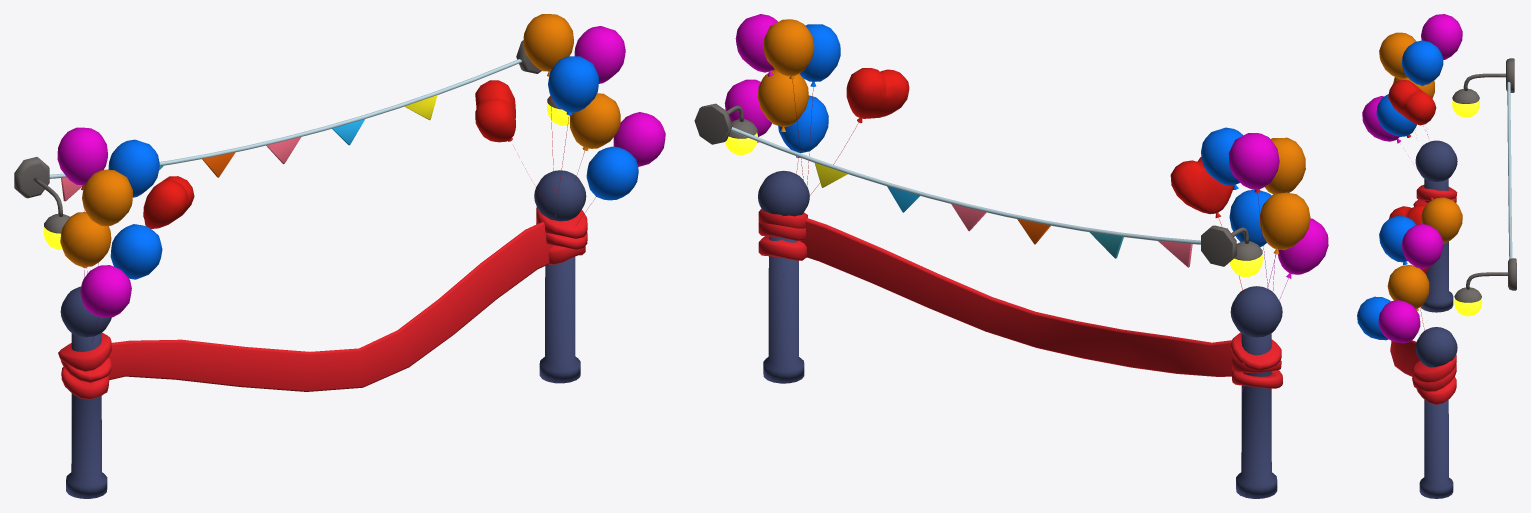
File: Entrance_Area_Decors.fbx
The picture shows the model from 3 angles, left to right: view 1: azimuth 30°, elevation 25°; view 2: azimuth 150°, elevation 25°; view 3: azimuth 270°, elevation 25°; orthographic projection. The views are drawn at different scales.
Visible parts, largest first — view 1: Entrance_Area_Decor, Entrance_Door_Baloon, Entrance_Area_Decor.001, Entrance_Area_Decor.002; view 2: Entrance_Area_Decor, Entrance_Door_Baloon, Entrance_Area_Decor.001, Entrance_Area_Decor.002; view 3: Entrance_Door_Baloon, Entrance_Area_Decor, Entrance_Area_Decor.002, Entrance_Area_Decor.001.
Part boxes in pixels (box(x1,y1,x2,y2)): Entrance_Area_Decor: box(58, 170, 587, 498); Entrance_Door_Baloon: box(57, 14, 665, 342); Entrance_Area_Decor.001: box(49, 59, 521, 201); Entrance_Area_Decor.002: box(14, 40, 569, 249); Entrance_Area_Decor: box(758, 170, 1282, 498); Entrance_Door_Baloon: box(724, 14, 1328, 391); Entrance_Area_Decor.001: box(731, 127, 1200, 267); Entrance_Area_Decor.002: box(694, 103, 1262, 277); Entrance_Door_Baloon: box(1357, 14, 1462, 365); Entrance_Area_Decor: box(1390, 140, 1457, 498); Entrance_Area_Decor.002: box(1452, 58, 1516, 316); Entrance_Area_Decor.001: box(1507, 82, 1512, 258).
Bounding box in the file's own units: 842 × 489 × 245.
